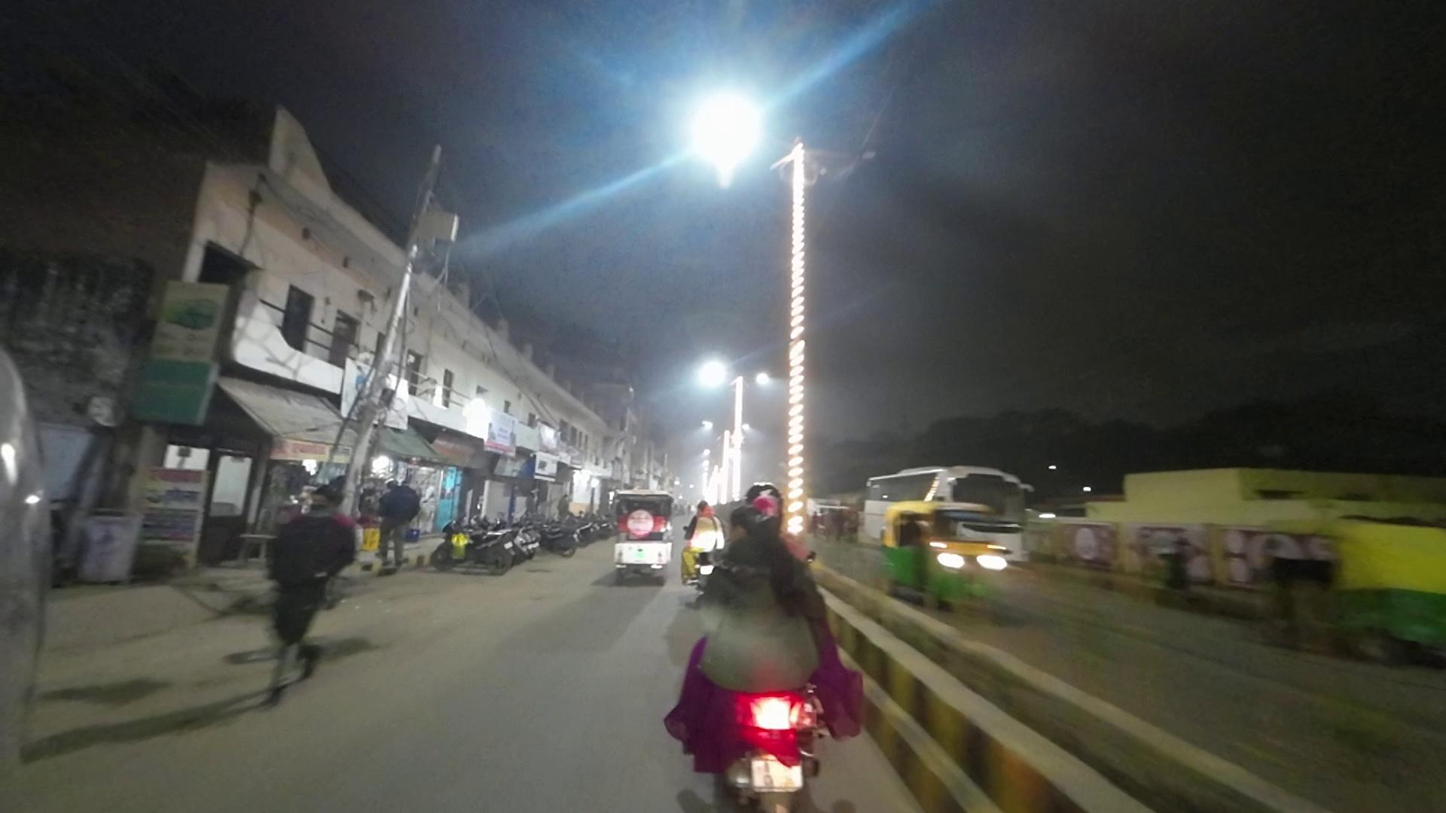streetlight: (815, 146, 881, 165)
